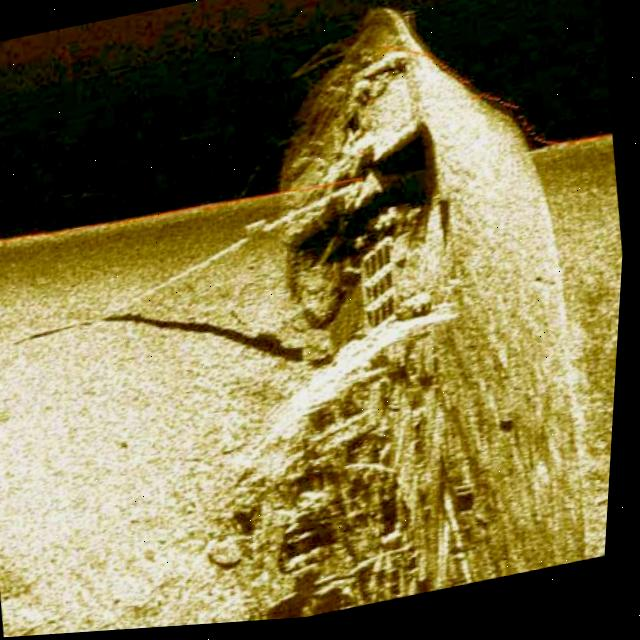shipwreck: (182, 0, 619, 629)
